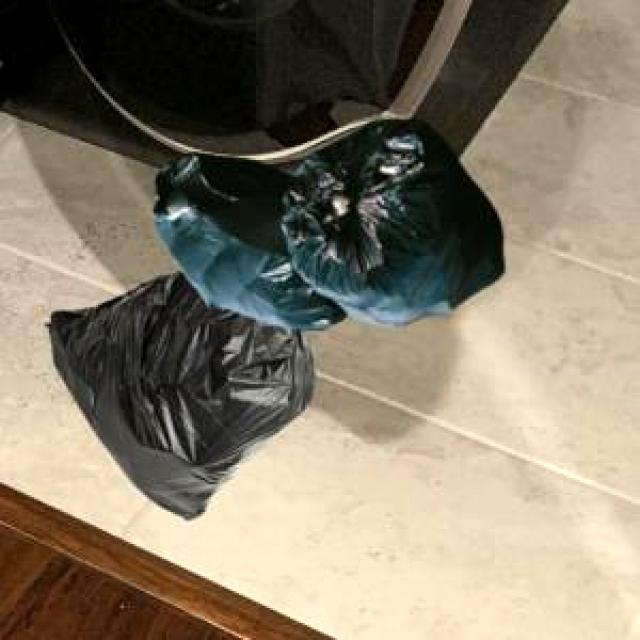Garbage_Bag: (152, 116, 500, 328), (44, 268, 310, 518)
